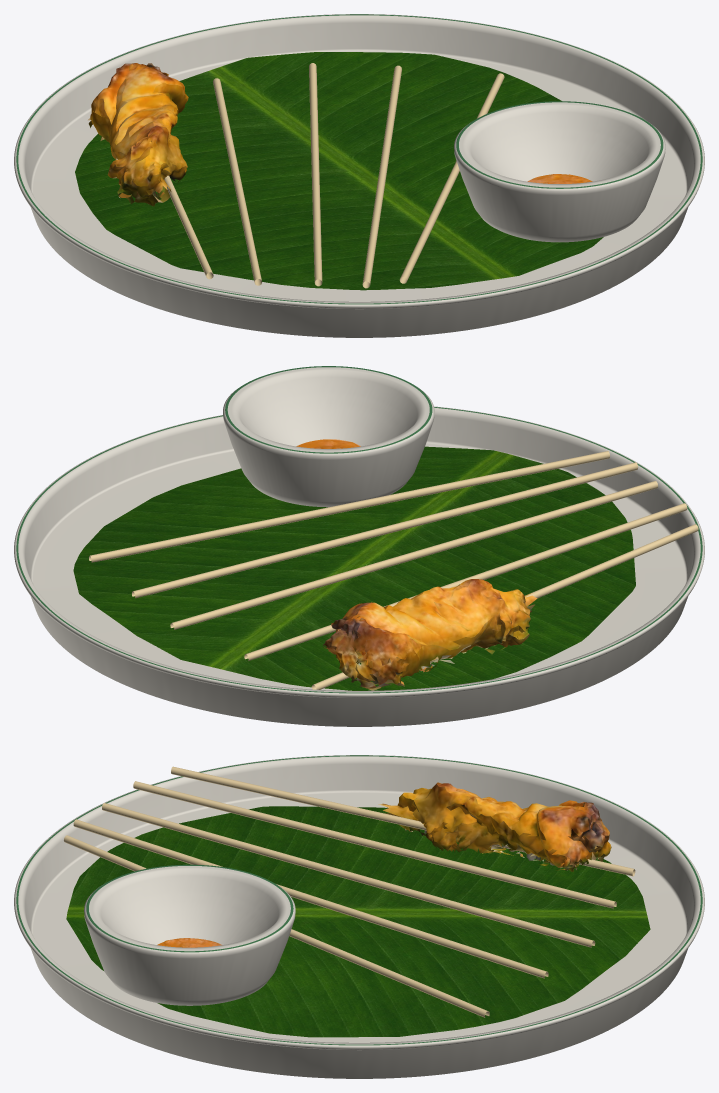
File: satay-3.glb
3 views of the same model, one above another, from view 1: azimuth 30°, elevation 25°; view 2: azimuth 150°, elevation 25°; view 3: azimuth 270°, elevation 25° (orthographic).
Visible parts, largest first — view 1: canonical/continuous-leaf-repair, support/regular-closed-plate, support/regular-satay-cup, food/independent-stage-3, canonical/skewer-core-4, canonical/skewer-core-3, canonical/skewer-core-2, canonical/skewer-core-5, canonical/skewer-core-1; view 2: canonical/continuous-leaf-repair, support/regular-closed-plate, support/regular-satay-cup, food/independent-stage-3, canonical/skewer-core-5, canonical/skewer-core-4, canonical/skewer-core-3, canonical/skewer-core-2, canonical/skewer-core-1; view 3: canonical/continuous-leaf-repair, support/regular-closed-plate, support/regular-satay-cup, food/independent-stage-3, canonical/skewer-core-3, canonical/skewer-core-2, canonical/skewer-core-4, canonical/skewer-core-1, canonical/skewer-core-5.
Part boxes in pixels (x1,y1,x2,y2): canonical/continuous-leaf-repair: (75,52,603,290); support/regular-closed-plate: (14,14,704,337); support/regular-satay-cup: (454,101,665,242); food/independent-stage-3: (88,63,188,206); canonical/skewer-core-4: (362,65,401,288); canonical/skewer-core-3: (309,63,322,286); canonical/skewer-core-2: (213,78,261,285); canonical/skewer-core-5: (399,73,504,283); canonical/skewer-core-1: (164,175,213,279); canonical/continuous-leaf-repair: (73,446,635,690); support/regular-closed-plate: (14,406,704,726); support/regular-satay-cup: (223,366,434,507); food/independent-stage-3: (323,579,537,690); canonical/skewer-core-5: (89,451,609,562); canonical/skewer-core-4: (132,462,638,598); canonical/skewer-core-3: (170,481,657,629); canonical/skewer-core-2: (244,503,687,660); canonical/skewer-core-1: (311,524,698,689); canonical/continuous-leaf-repair: (66,806,650,1037); support/regular-closed-plate: (14,755,704,1078); support/regular-satay-cup: (84,864,295,1005); food/independent-stage-3: (378,782,611,871); canonical/skewer-core-3: (102,803,595,947); canonical/skewer-core-2: (133,781,616,908); canonical/skewer-core-4: (73,819,548,978); canonical/skewer-core-1: (171,766,635,876); canonical/skewer-core-5: (64,835,489,1017).
Bounding box in the file's own units: 2.88 × 0.422 × 2.88.
Materials: 5 (2 with a texture image).
